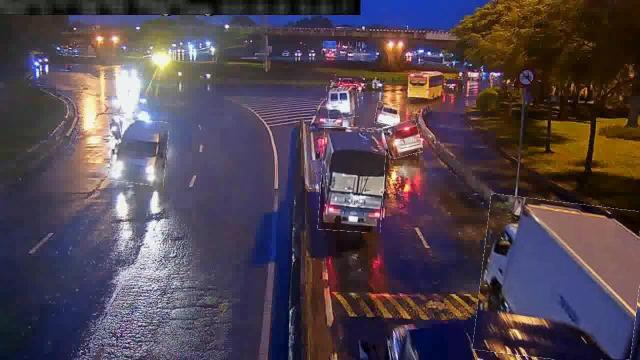Bike: (109, 113, 121, 143)
Bus: (110, 119, 168, 185), (327, 85, 359, 119), (408, 75, 446, 99)
Car: (384, 122, 422, 158), (375, 102, 399, 126), (315, 106, 341, 128)
Truck: (477, 198, 639, 360), (319, 126, 385, 232)
